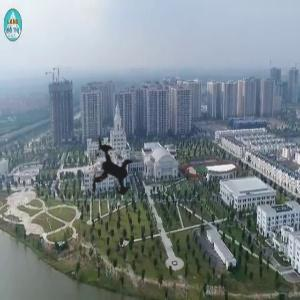drone: (59, 119, 164, 224)
